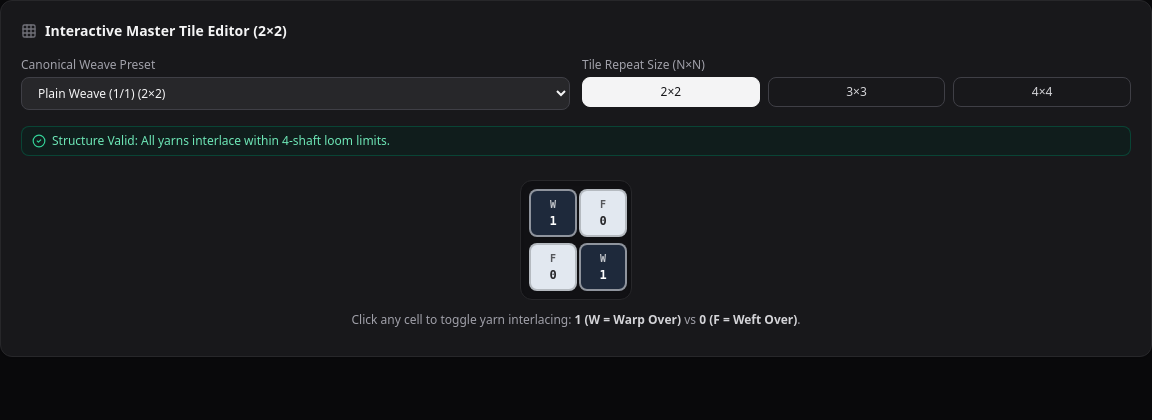
Scenario: Issue #6: Master Tile Real-Time Float and Structural Validation › displays real-time structural warning when a row is modified to be entirely uniform (all 0s)
This screenshot has width=1152, height=420.
Expected: the text "Structure Valid" is shown, x1=52 y1=132 x2=390 y2=149
Note: Pick 1, End 1 is currently 1 (Warp Over). Click it to toggle to 0.
Step 1. Click the 1st button titled "Pick 1, End 1" → (553,213), box x1=529 y1=189 x2=577 y2=237
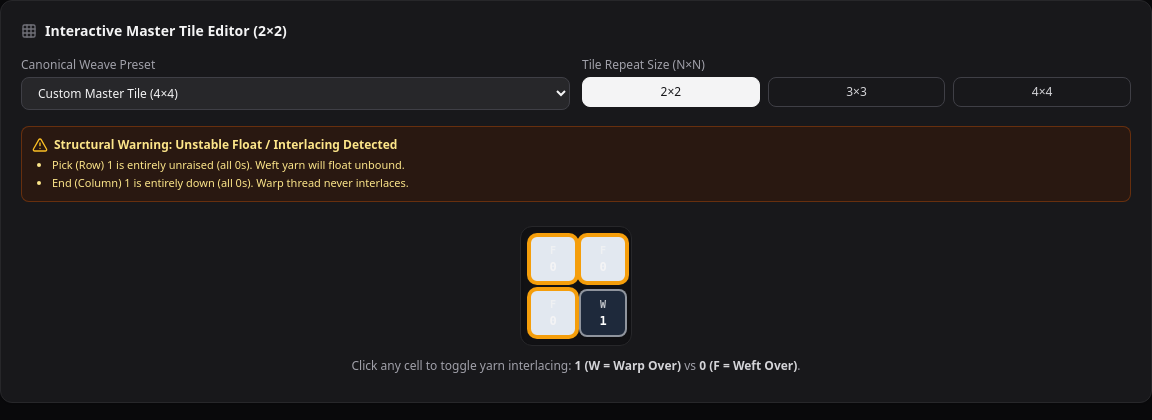
Expected: the message is shown, x1=21 y1=126 x2=1131 y2=202
Expected: the list item "Pick (Row) 1 is entirely unraised (all 0s)" is shown, x1=52 y1=157 x2=405 y2=172
Step 2. Click the 1st button titled "Pick 1, End 1" → (553,259), box x1=529 y1=235 x2=577 y2=283
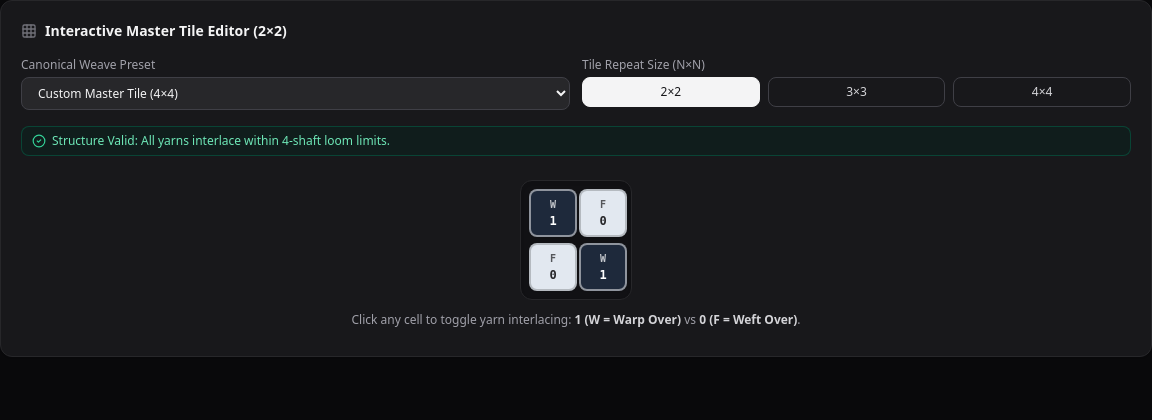
Expected: the text "Structure Valid" is shown, x1=52 y1=132 x2=390 y2=149
